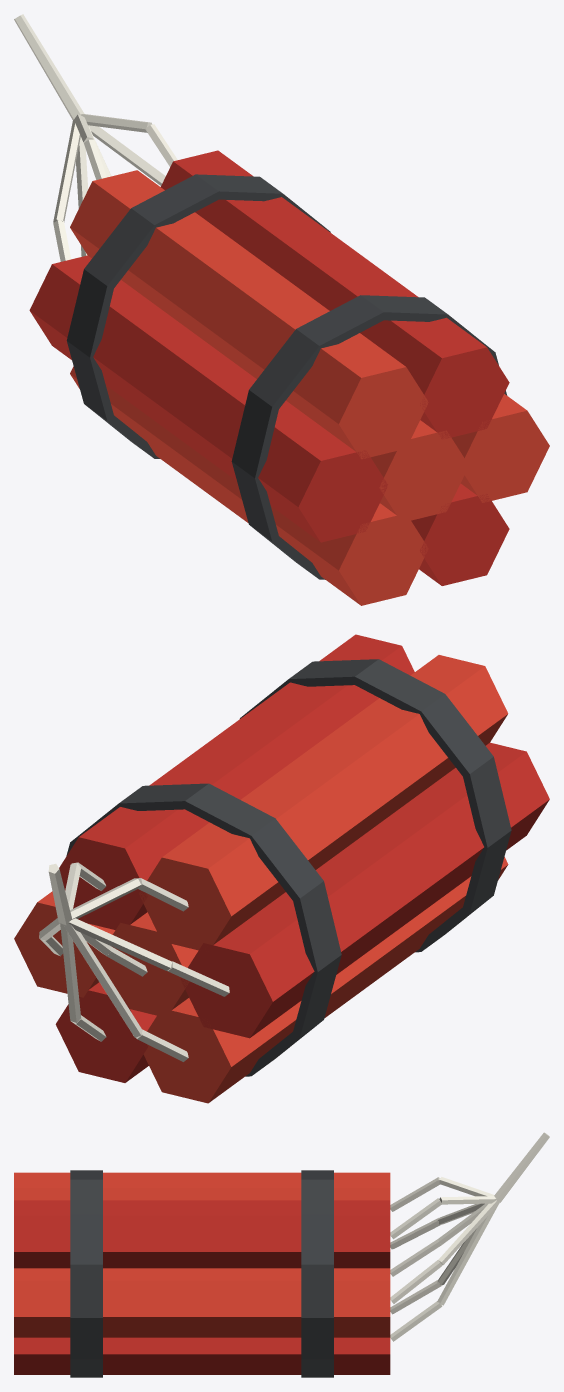
Rendered from Dynamite.fbx.
3 renders of one model, top to bottom at view 1: azimuth 30°, elevation 25°; view 2: azimuth 150°, elevation 25°; view 3: azimuth 270°, elevation 25°, orthographic. The views are drawn at different scales.
Parts seen in each view (by area): view 1: RedStick2, RedStick1, RedStick3, RedStick6, BindingBand1, BindingBand0, RedStick4, RedStick5, RedStick0, FuseTip, Fuse1_1, Fuse4_1 (+1 smaller); view 2: RedStick2, RedStick1, RedStick3, RedStick6, BindingBand0, BindingBand1, RedStick5, RedStick0, RedStick4, Fuse6_1, Fuse1_1, Fuse5_1 (+5 smaller); view 3: RedStick4, RedStick3, RedStick5, RedStick2, BindingBand0, BindingBand1, Fuse5_1, FuseTip, Fuse4_1, Fuse4_0, Fuse3_0, Fuse5_0 (+9 smaller).
Part boxes in pixels (x1=…): RedStick2: x1=70, y1=170, x2=428, y2=459; RedStick1: x1=29, y1=255, x2=387, y2=542; RedStick3: x1=161, y1=150, x2=509, y2=439; RedStick6: x1=70, y1=366, x2=428, y2=605; BindingBand1: x1=231, y1=295, x2=507, y2=579; BindingBand0: x1=66, y1=174, x2=330, y2=458; RedStick4: x1=452, y1=394, x2=549, y2=502; RedStick5: x1=411, y1=483, x2=509, y2=585; RedStick0: x1=371, y1=420, x2=468, y2=522; FuseTip: x1=14, y1=14, x2=84, y2=119; Fuse1_1: x1=53, y1=120, x2=80, y2=222; Fuse4_1: x1=88, y1=125, x2=165, y2=185; RedStick2: x1=139, y1=655, x2=508, y2=950; RedStick1: x1=180, y1=742, x2=549, y2=1038; RedStick3: x1=59, y1=634, x2=414, y2=929; RedStick6: x1=143, y1=857, x2=508, y2=1103; BindingBand0: x1=66, y1=783, x2=341, y2=1076; BindingBand1: x1=240, y1=659, x2=511, y2=952; RedStick5: x1=55, y1=982, x2=156, y2=1082; RedStick0: x1=97, y1=912, x2=198, y2=1015; RedStick4: x1=14, y1=891, x2=115, y2=997; Fuse6_1: x1=63, y1=923, x2=142, y2=1037; Fuse1_1: x1=68, y1=918, x2=172, y2=970; Fuse5_1: x1=60, y1=923, x2=81, y2=1022; RedStick4: x1=14, y1=1268, x2=390, y2=1337; RedStick3: x1=14, y1=1200, x2=390, y2=1268; RedStick5: x1=14, y1=1337, x2=390, y2=1374; RedStick2: x1=14, y1=1172, x2=390, y2=1200; BindingBand0: x1=301, y1=1170, x2=333, y2=1377; BindingBand1: x1=70, y1=1170, x2=102, y2=1377; Fuse5_1: x1=437, y1=1202, x2=499, y2=1305; FuseTip: x1=494, y1=1132, x2=549, y2=1202; Fuse4_1: x1=438, y1=1200, x2=498, y2=1264; Fuse4_0: x1=390, y1=1260, x2=442, y2=1303; Fuse3_0: x1=390, y1=1198, x2=441, y2=1239; Fuse5_0: x1=390, y1=1301, x2=442, y2=1341.
Bounding box in the file's own units: 0.166 × 0.2 × 0.4273.
